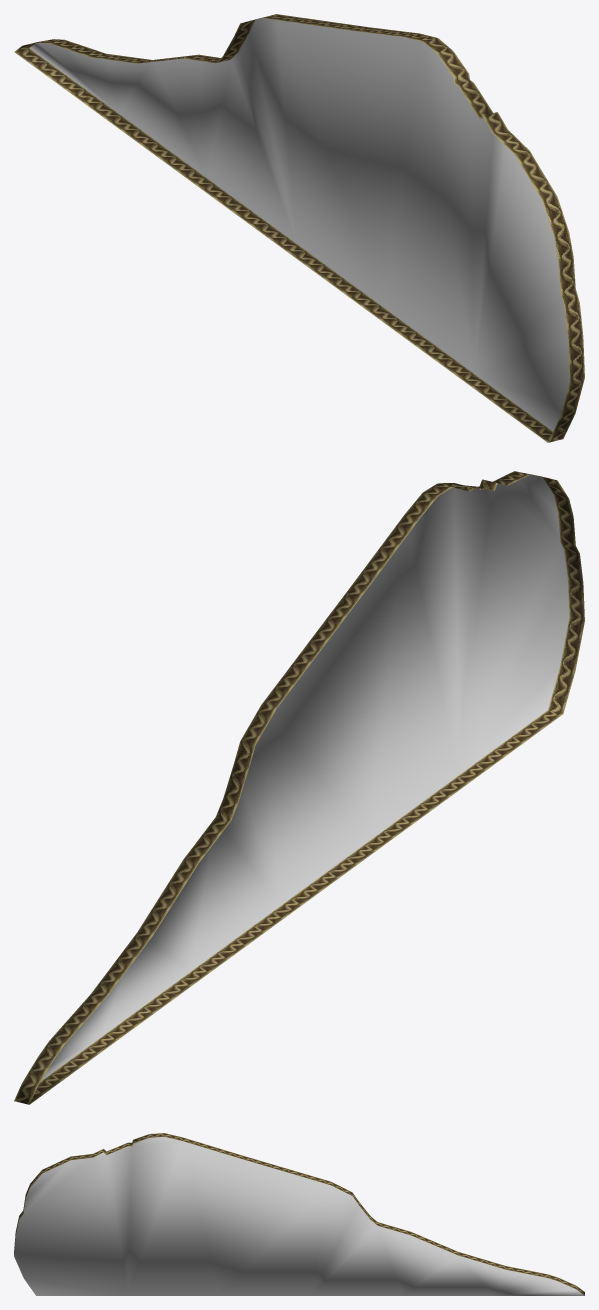
The model's file is ground3.fbx.
3 views of the same model, one above another, from view 1: azimuth 30°, elevation 25°; view 2: azimuth 150°, elevation 25°; view 3: azimuth 270°, elevation 25° (orthographic). The views are drawn at different scales.
Visible parts, largest first — view 1: ground_03; view 2: ground_03; view 3: ground_03.
Part boxes in pixels (x1,y1,x2,y2): ground_03: (14, 14, 584, 442); ground_03: (14, 471, 584, 1104); ground_03: (14, 1133, 584, 1295).
Size of the model in its own units: 0.116 by 2.21 by 7.2.
